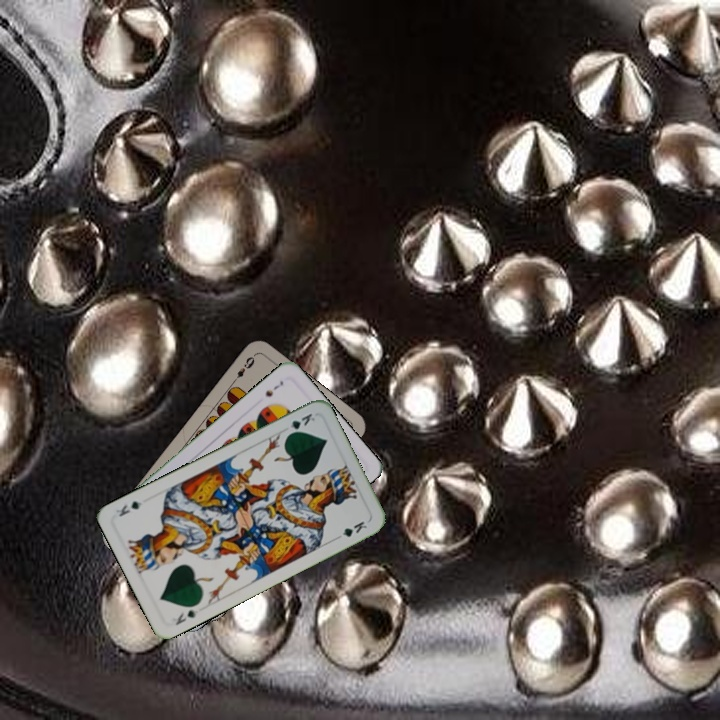E9: (228, 352, 257, 386)
GK: (282, 409, 318, 438), (171, 606, 201, 628)
S7: (261, 376, 286, 399)
